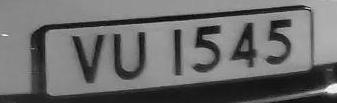1: (161, 20, 195, 81)
4: (226, 15, 264, 75)
5: (189, 18, 228, 78), (259, 12, 297, 72)
U: (105, 25, 149, 84)
V: (66, 31, 112, 86)
